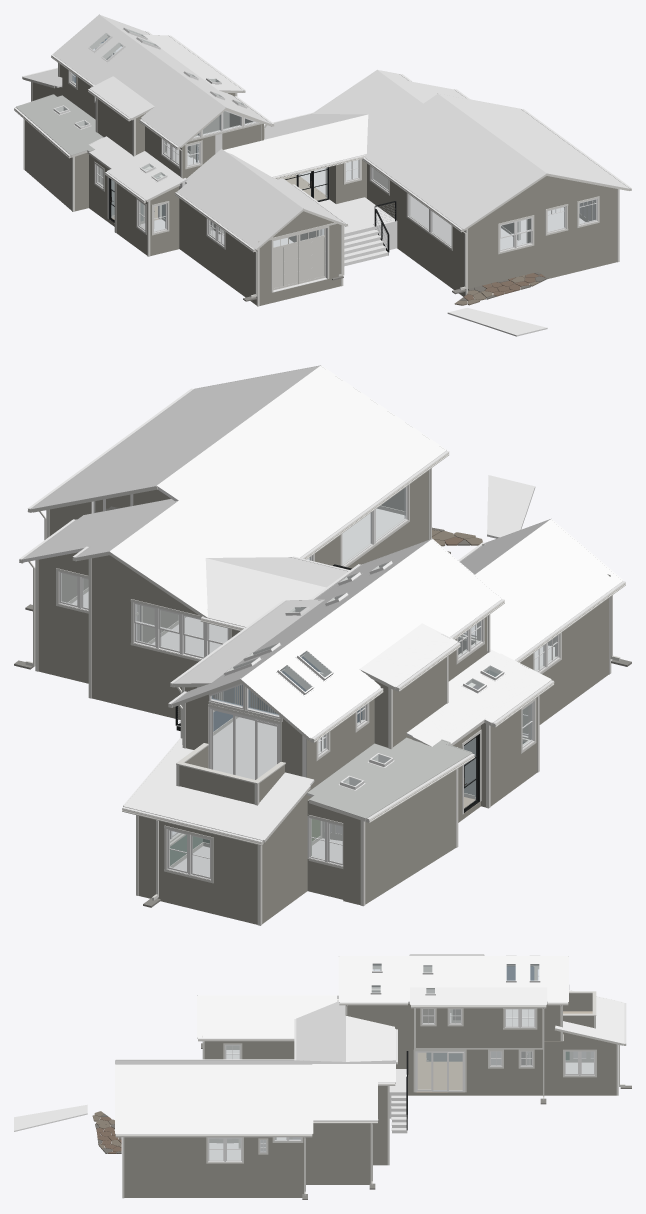
The picture shows the model from 3 angles, top to bottom: view 1: azimuth 30°, elevation 25°; view 2: azimuth 150°, elevation 25°; view 3: azimuth 270°, elevation 25°; orthographic projection. The views are drawn at different scales.
Visible parts, largest first — view 1: roofs|L1|comp-shingle-arch, walls|L1|hardie-lap#paint-ext-body, walls|L0|hardie-lap#paint-ext-body, walls|L2|hardie-lap#paint-ext-body, trim|-|hardie-trim#paint-ext-trim, roofs|L1|modbit-torchdown, glass|L1|glass, trim|-|comp-shingle-arch, trim|-|aluminum-gutter, walls|LG|hardie-lap#paint-ext-body, floors|L1|oak-red-lauzon-vela, trim|-|gutter-guard (+22 smaller); view 2: roofs|L1|comp-shingle-arch, walls|L0|hardie-lap#paint-ext-body, walls|L1|hardie-lap#paint-ext-body, walls|L2|hardie-lap#paint-ext-body, roofs|L1|modbit-torchdown, glass|L1|glass, trim|-|aluminum-gutter, trim|-|comp-shingle-arch, trim|-|hardie-trim#paint-ext-trim, trim|-|gutter-guard, floors|L2|oak-red-lauzon-vela, floors|L1|oak-red-lauzon-vela (+20 smaller); view 3: roofs|L1|comp-shingle-arch, walls|L1|hardie-lap#paint-ext-body, walls|L0|hardie-lap#paint-ext-body, walls|L2|hardie-lap#paint-ext-body, trim|-|comp-shingle-arch, trim|-|aluminum-gutter, trim|-|hardie-trim#paint-ext-trim, walls|LG|hardie-lap#paint-ext-body, trim|-|gutter-guard, floors|L0|stone-tile-24, site|-|paver-tumbled, glass|L0|glass (+18 smaller).
Boxes of the visible parts, x1,y1,x2,y2 form: roofs|L1|comp-shingle-arch: (24,15,628,248); walls|L1|hardie-lap#paint-ext-body: (329,160,617,296); walls|L0|hardie-lap#paint-ext-body: (25,82,256,305); walls|L2|hardie-lap#paint-ext-body: (59,53,263,178); trim|-|hardie-trim#paint-ext-trim: (68,70,599,292); roofs|L1|modbit-torchdown: (17,94,103,154); glass|L1|glass: (346,160,595,249); trim|-|comp-shingle-arch: (23,14,629,249); trim|-|aluminum-gutter: (14,55,631,252); walls|LG|hardie-lap#paint-ext-body: (259,167,340,305); floors|L1|oak-red-lauzon-vela: (300,160,585,249); trim|-|gutter-guard: (14,31,631,249); roofs|L1|comp-shingle-arch: (23,366,621,839); walls|L0|hardie-lap#paint-ext-body: (139,598,608,924); walls|L1|hardie-lap#paint-ext-body: (38,470,428,719); walls|L2|hardie-lap#paint-ext-body: (179,616,487,804); roofs|L1|modbit-torchdown: (307,737,470,817); glass|L1|glass: (61,487,405,656); trim|-|aluminum-gutter: (19,452,625,845); trim|-|comp-shingle-arch: (22,365,623,840); trim|-|hardie-trim#paint-ext-trim: (56,484,561,883); trim|-|gutter-guard: (19,388,625,841); floors|L2|oak-red-lauzon-vela: (213,717,323,779); floors|L1|oak-red-lauzon-vela: (72,508,405,656); roofs|L1|comp-shingle-arch: (115,955,623,1133); walls|L1|hardie-lap#paint-ext-body: (124,1086,387,1197); walls|L0|hardie-lap#paint-ext-body: (396,1032,616,1095); walls|L2|hardie-lap#paint-ext-body: (345,993,593,1047); trim|-|comp-shingle-arch: (115,954,624,1134); trim|-|aluminum-gutter: (115,1002,626,1137); trim|-|hardie-trim#paint-ext-trim: (206,1008,596,1163); walls|LG|hardie-lap#paint-ext-body: (204,1041,294,1059); trim|-|gutter-guard: (115,954,626,1134); floors|L0|stone-tile-24: (415,1052,464,1092); site|-|paver-tumbled: (14,1104,87,1131); glass|L0|glass: (491,1052,593,1073).
Bounding box in the file's own units: 69.8 × 23.52 × 109.
